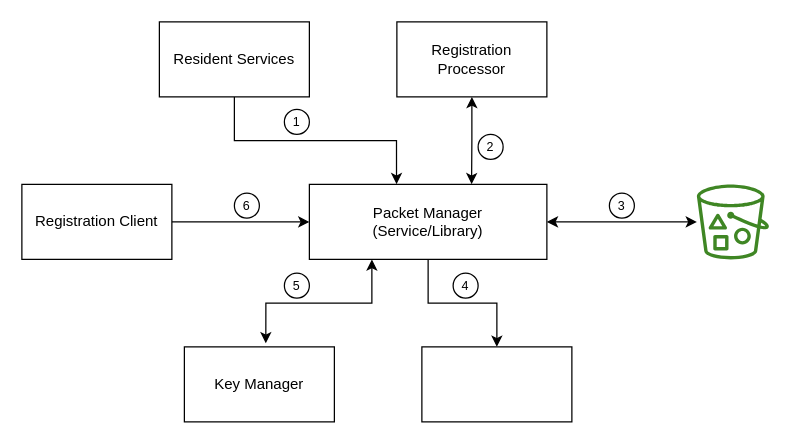
Image size: 796x444. Some labels were removed from this diagram. Each missing label, with the centre of its shape:
Audit Manager: pixel 496 384
Object Store: pixel 732 221
